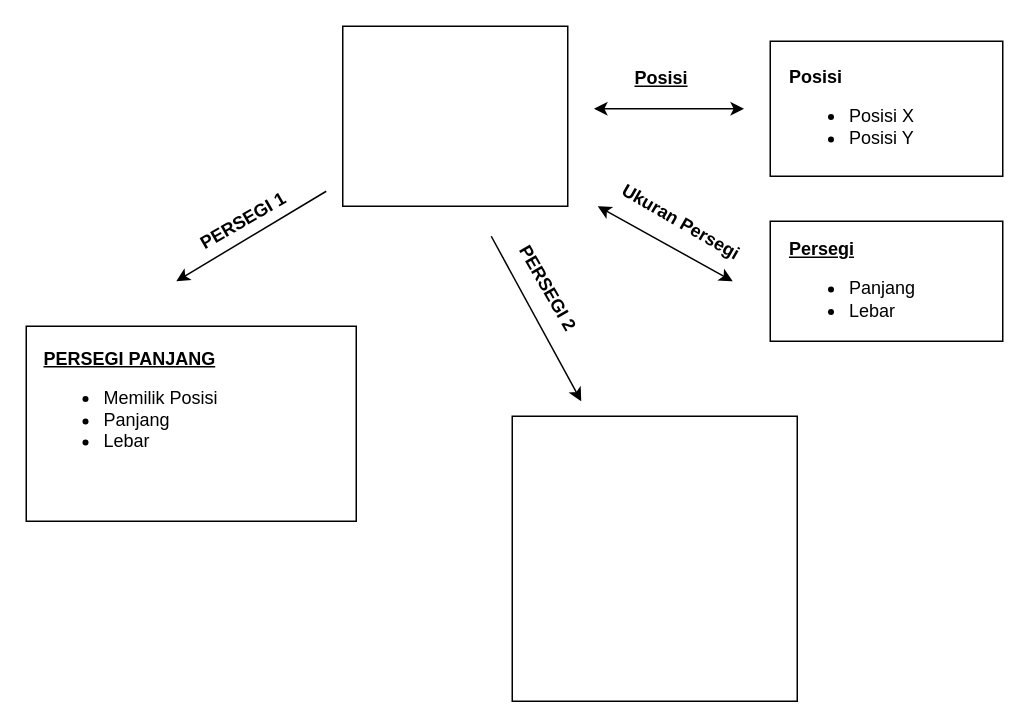
This 1029x728 diagram has some shape labels left out. Here are the shapes that lost their labels. From the top down, the centre of each, then its label:
the point at 454,115: Membuat Persegi Posisi Ukuran Persegi
the point at 654,558: PERSEGI SAMA SISI Berada di posisi Panjang dan Lebar sama
